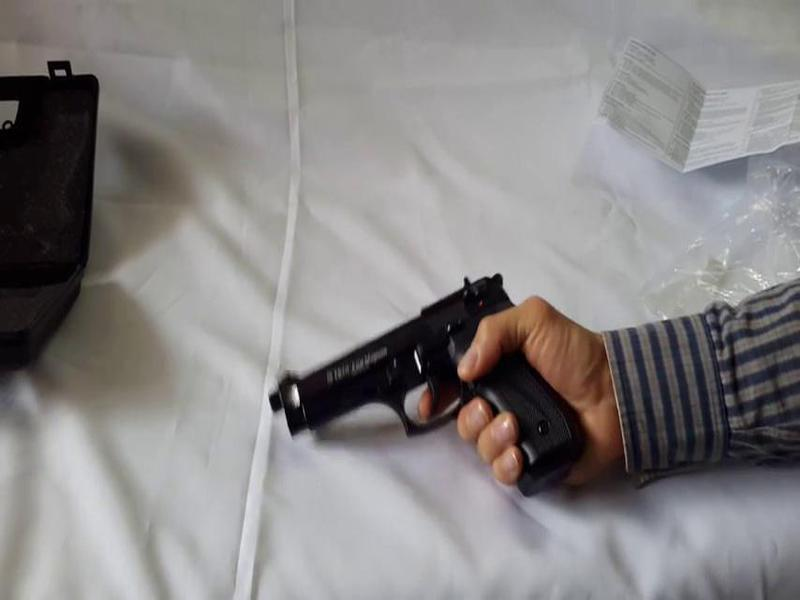Pistola: (268, 250, 578, 497)
